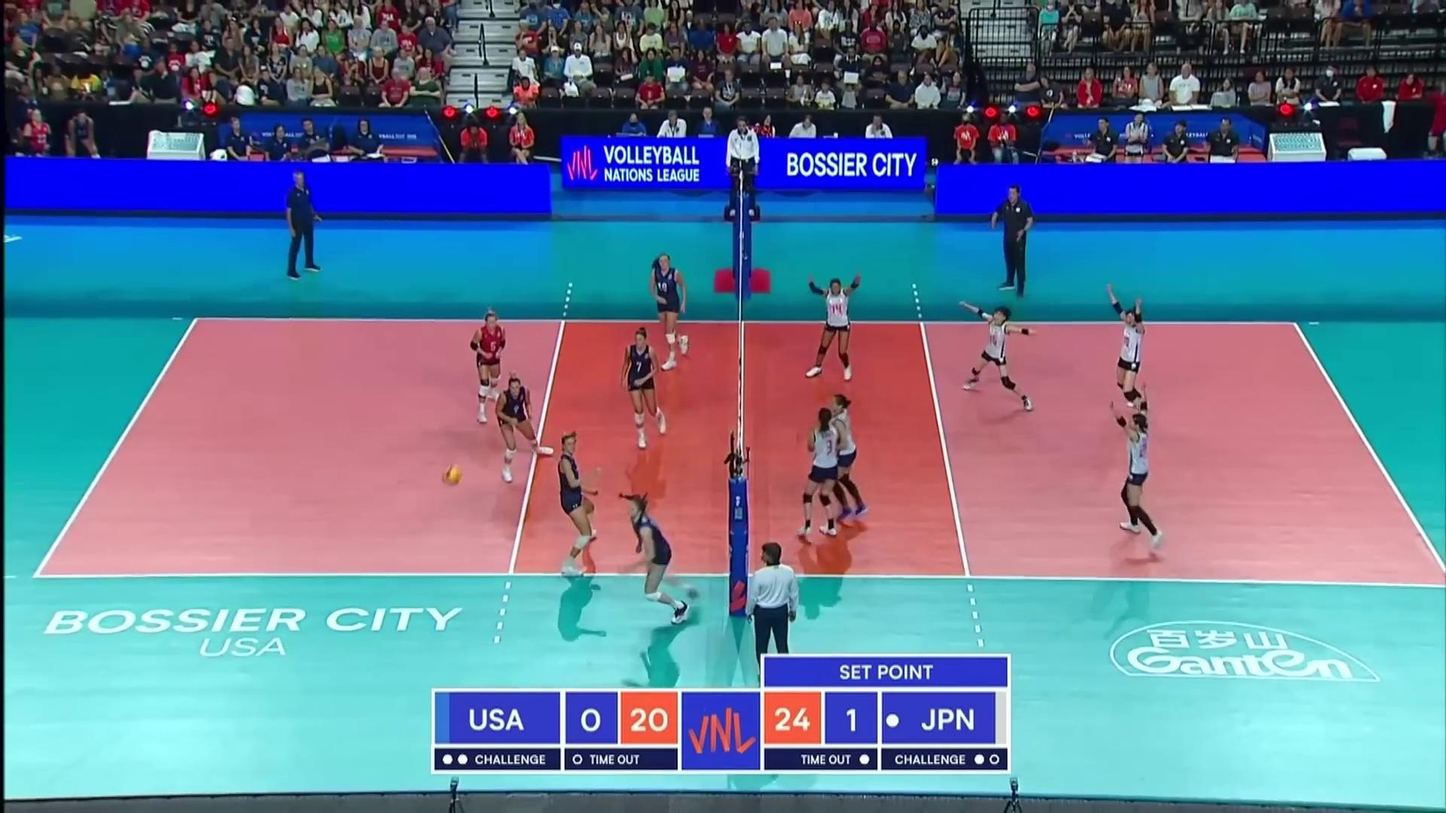player: (615, 491, 692, 626), (1108, 399, 1167, 555), (959, 305, 1037, 413), (552, 432, 603, 584), (494, 376, 554, 483), (823, 394, 872, 523), (803, 273, 861, 379), (799, 408, 842, 537), (623, 327, 668, 448), (467, 307, 510, 426), (650, 254, 694, 367), (1112, 290, 1148, 413)
refree: (742, 542, 800, 688), (725, 115, 760, 218)
